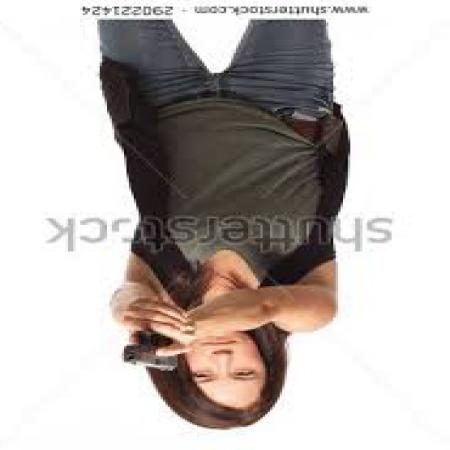Pistol: (117, 320, 190, 372)
